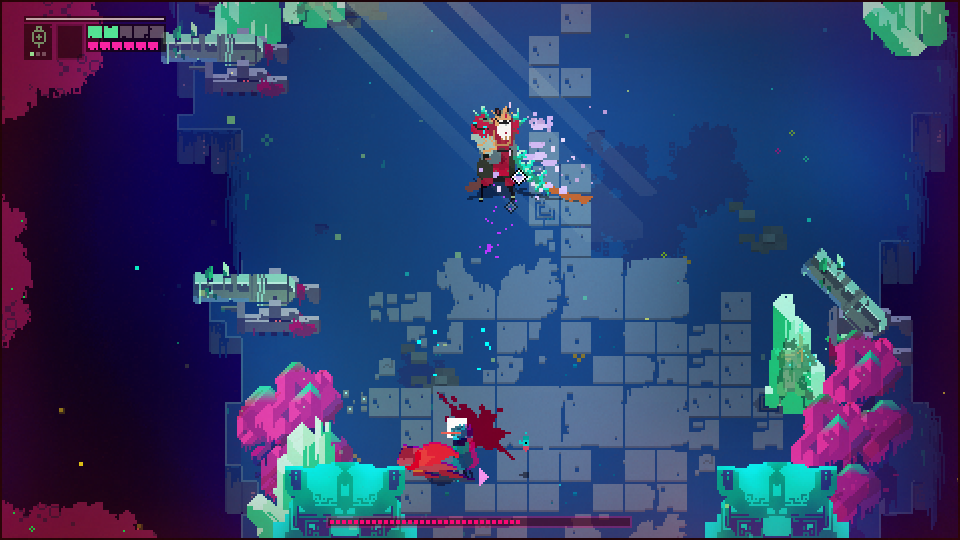hanged_man: (464, 102, 560, 208)
player: (398, 438, 465, 481)
